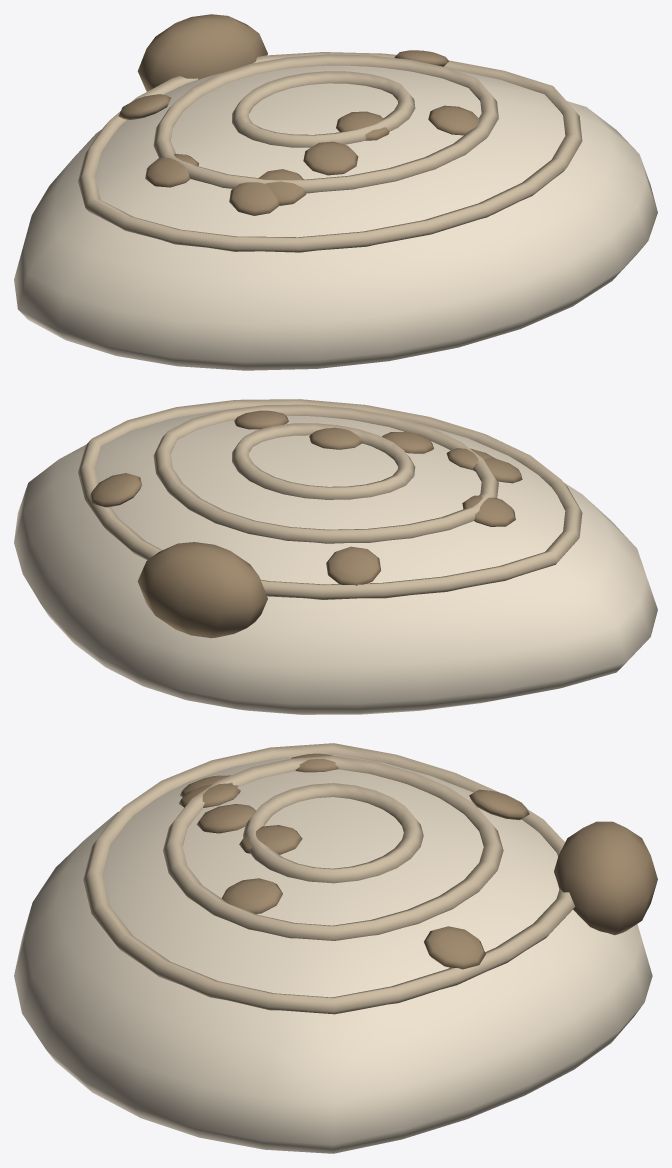
The model's file is shell-clam.glb.
3 renders of one model, top to bottom at view 1: azimuth 30°, elevation 25°; view 2: azimuth 150°, elevation 25°; view 3: azimuth 270°, elevation 25°, orthographic. The views are drawn at different scales.
Parts seen in each view (by area): view 1: shell; view 2: shell; view 3: shell.
Part boxes in pixels (x1,y1,x2,y2): shell: (14, 14, 657, 370); shell: (14, 399, 657, 714); shell: (14, 743, 657, 1153).
Bounding box in the file's own units: 0.3 × 0.0865 × 0.242.
